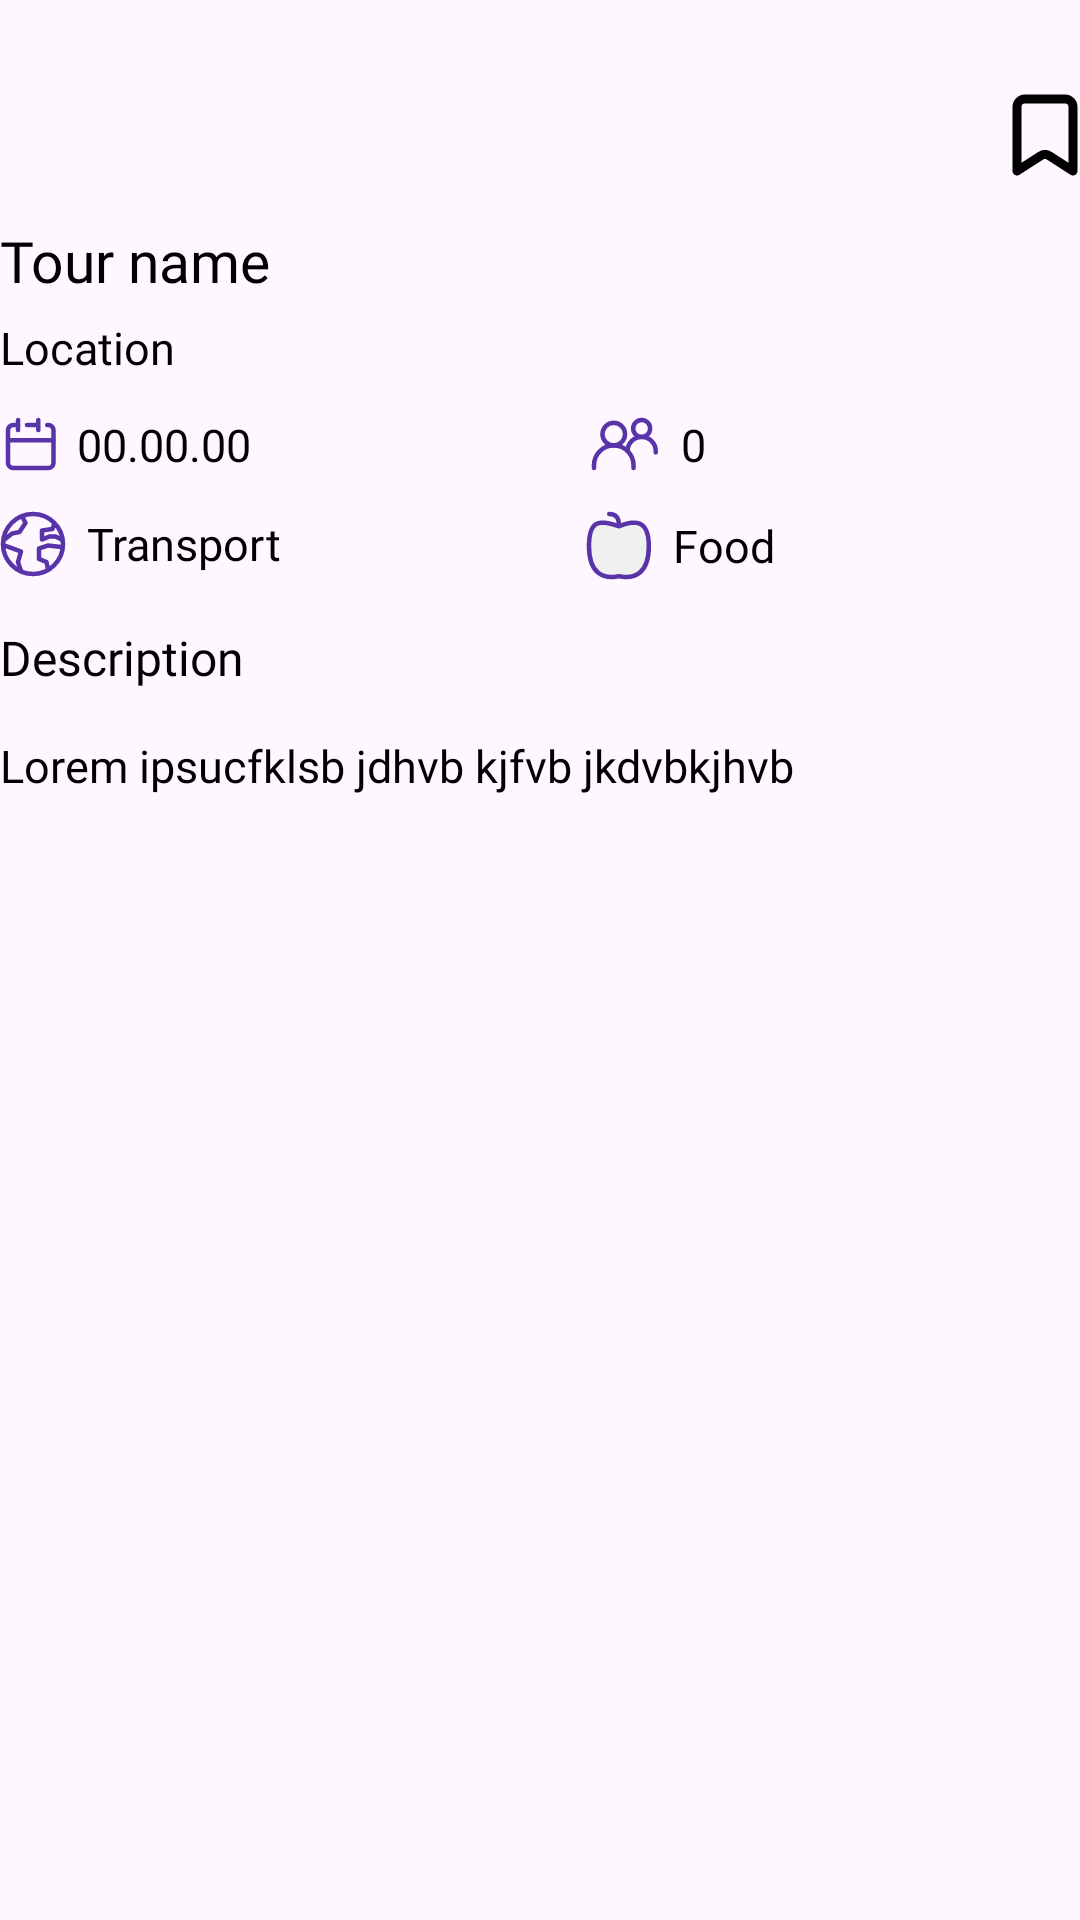

Named icons in this screenshot (1080 × 1920) and their bounding boxes, (x1, y1, x2, y2):
more date: (5, 417, 56, 471)
more people: (591, 417, 658, 471)
saved: (1012, 94, 1078, 176)
